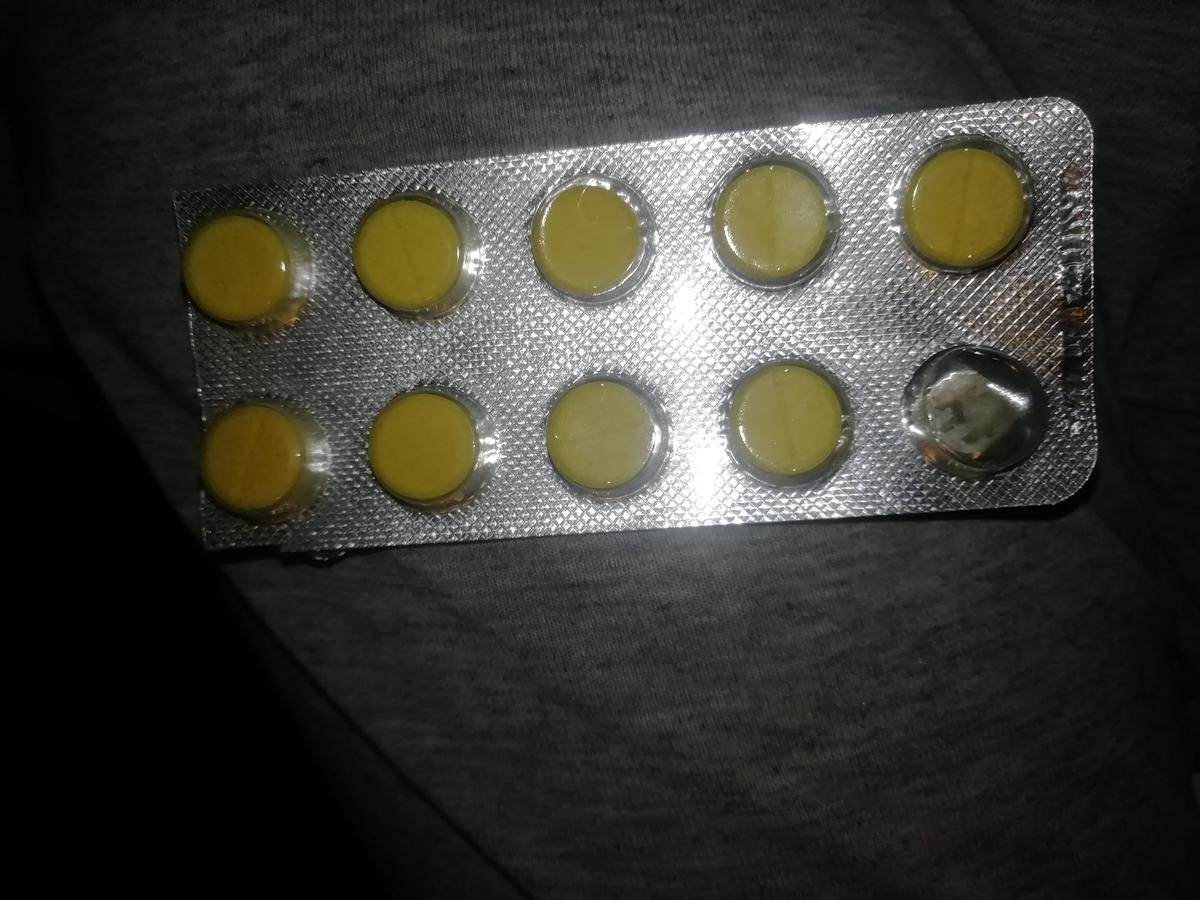tablet: (895, 136, 1052, 274), (709, 351, 866, 489), (529, 365, 686, 503), (354, 373, 511, 511), (336, 193, 480, 319), (515, 179, 659, 305), (699, 161, 843, 287), (193, 392, 331, 518), (181, 217, 317, 330)
